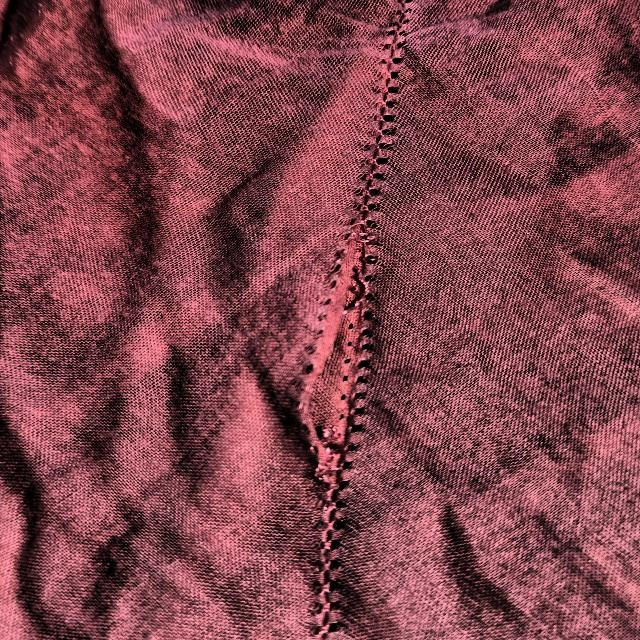seam: (226, 107, 464, 577)
